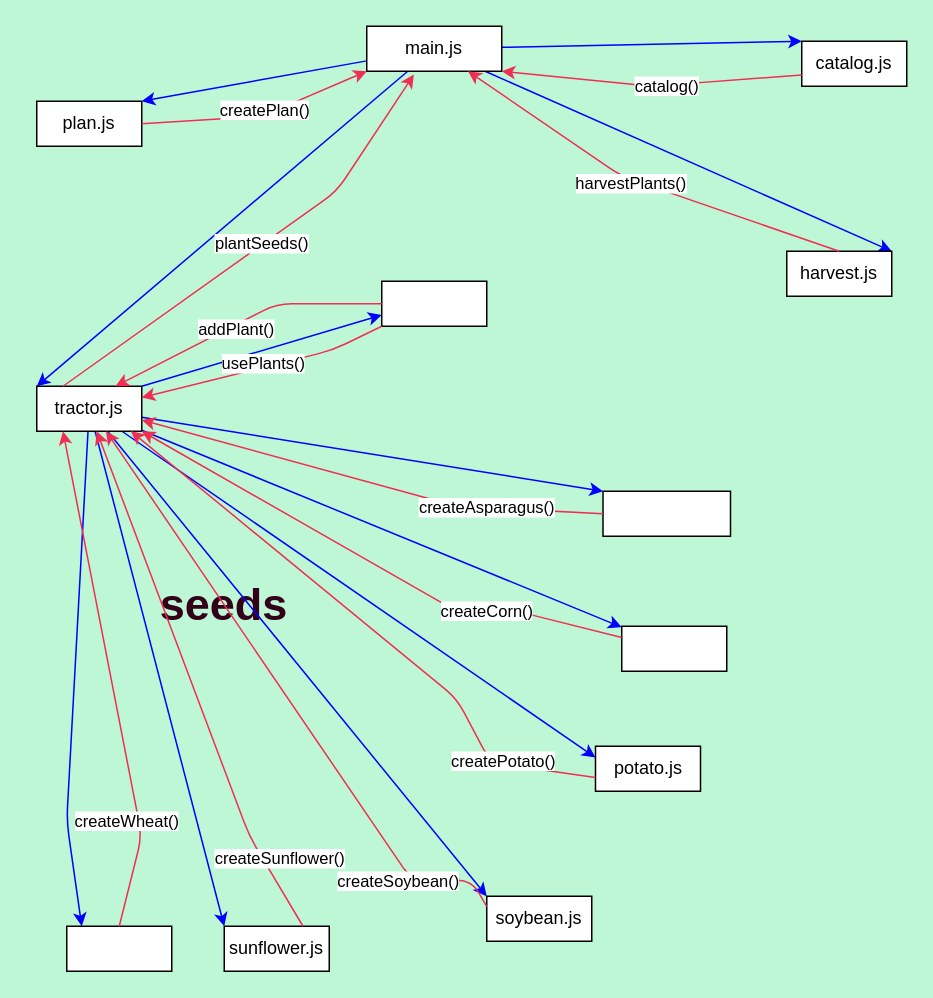
Image size: 933x998. Some labels were removed from this diagram. The shapes that lost their labels are listed below. From the top down, each one's box as (x1, y1, x2, y2) in pixels, then its label:
(380, 280, 487, 326): field.js
(602, 490, 730, 536): asparagus.js
(620, 625, 727, 671): corn.js
(65, 925, 172, 971): wheat.js
